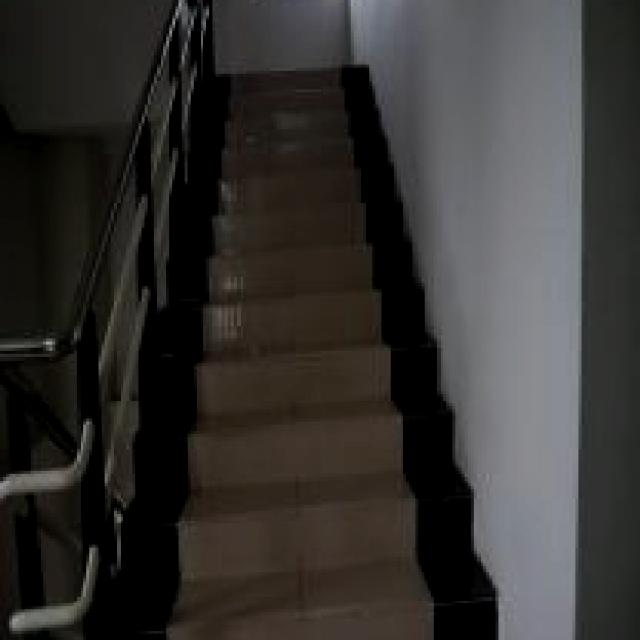upstair: (204, 53, 420, 640)
